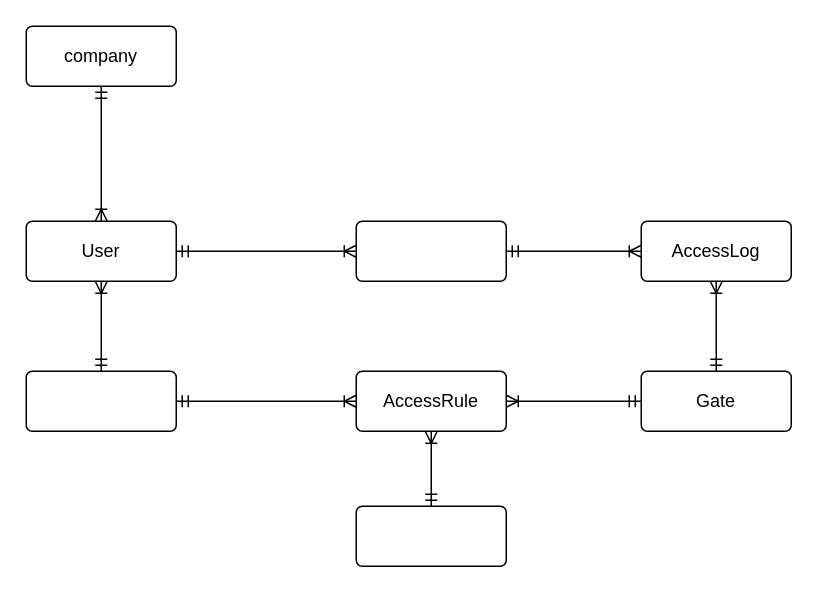
Some shapes in this 818 by 593 pixel diagram are drawn without their labels. The shapes that lost their labels are listed below. From the top down, each one's centre as x and y in pixels, then its label:
(430,250): Vehicle
(100,400): Role
(430,535): AccessSchedule
